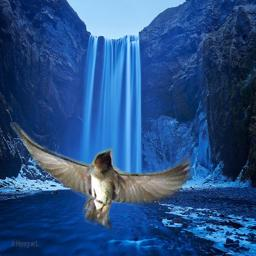Swallow: (10, 122, 194, 232)
